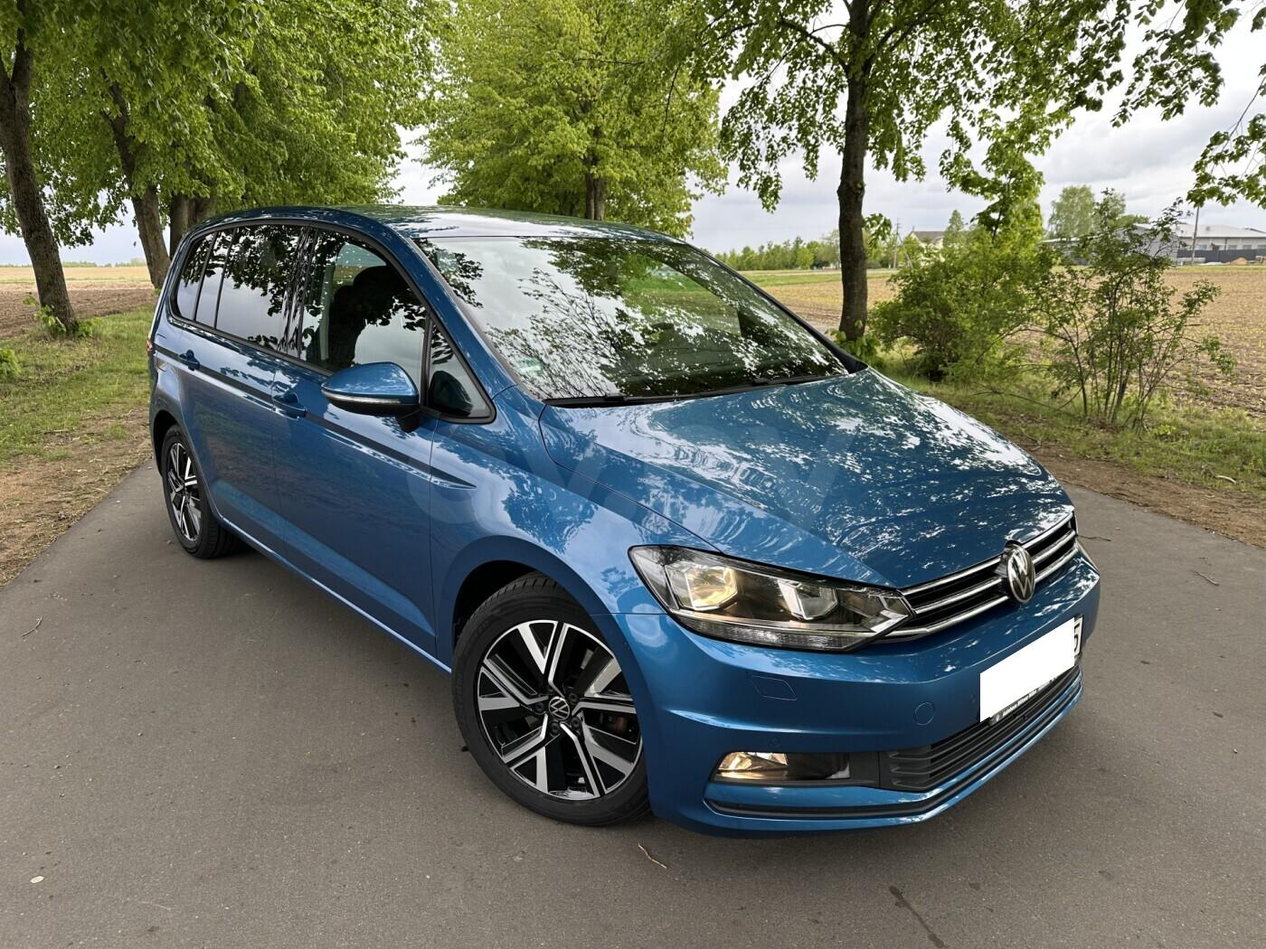Touran_2015: (143, 199, 1105, 843)
